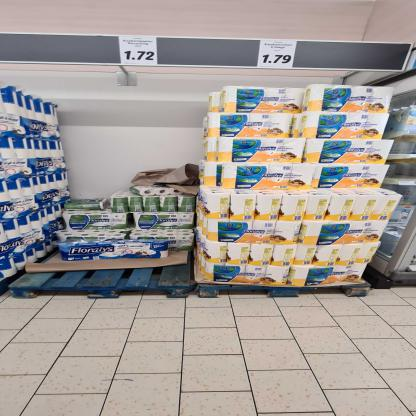prtg: (119, 38, 159, 66), (258, 41, 298, 69)
